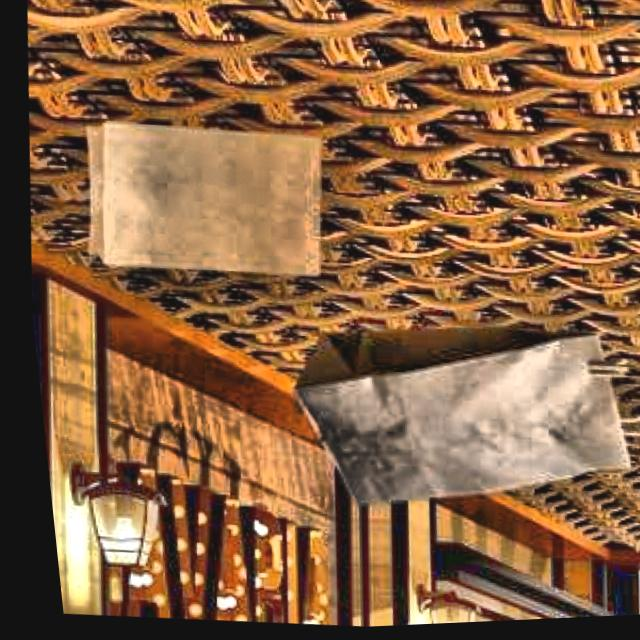Paper-bag: (260, 303, 640, 545), (56, 101, 359, 311)
